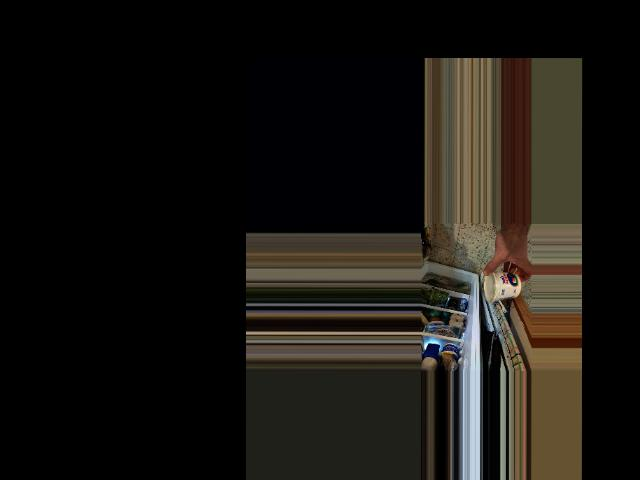cotage: (480, 266, 521, 305)
